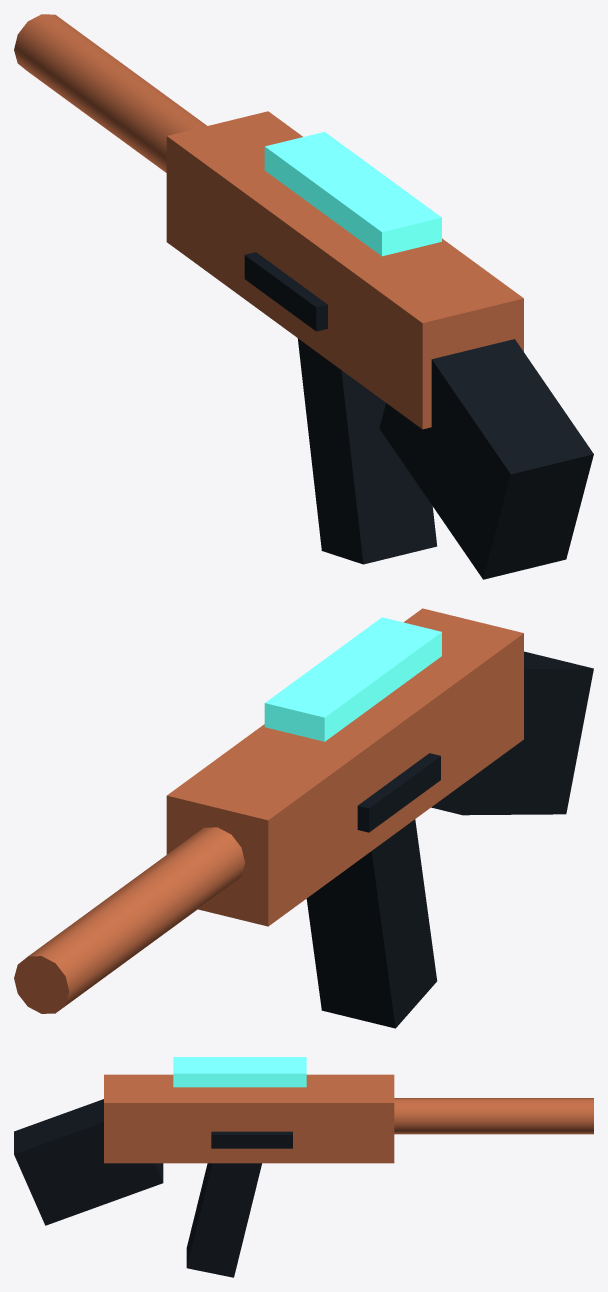
File: falcon-9.glb
3 views of the same model, one above another, from view 1: azimuth 30°, elevation 25°; view 2: azimuth 150°, elevation 25°; view 3: azimuth 270°, elevation 25° (orthographic). The views are drawn at different scales.
Parts seen in each view (by area): view 1: falcon-9; view 2: falcon-9; view 3: falcon-9.
Part boxes in pixels (x1=…): falcon-9: x1=14, y1=14, x2=593, y2=579; falcon-9: x1=14, y1=608, x2=593, y2=1028; falcon-9: x1=14, y1=1057, x2=593, y2=1277.
Size of the model in its own units: 0.27 by 0.7372 by 1.92.
